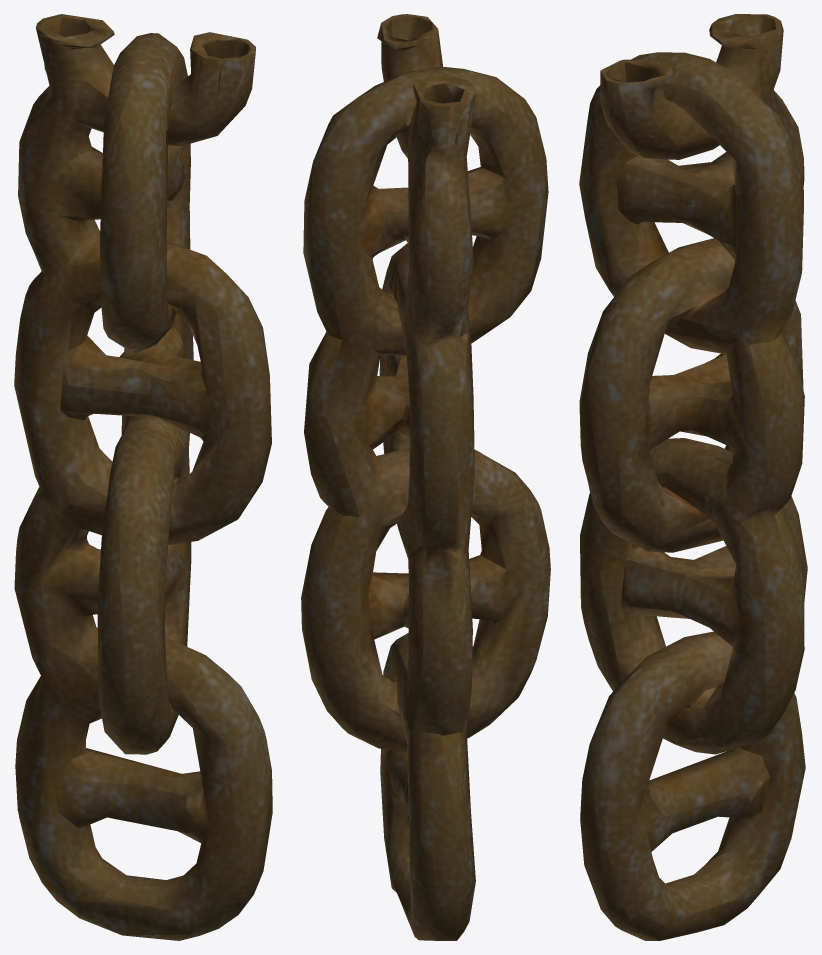
The model's file is lm_chain.glb.
The picture shows the model from 3 angles, left to right: view 1: azimuth 30°, elevation 25°; view 2: azimuth 150°, elevation 25°; view 3: azimuth 270°, elevation 25°; orthographic projection. The views are drawn at different scales.
Visible parts, largest first — view 1: world; view 2: world; view 3: world.
Boxes of the visible parts, x1,y1,x2,y2 form: world: (14,14,272,940); world: (301,14,550,940); world: (579,14,807,940).
Bounding box in the file's own units: 1.78 × 9 × 2.1.
Materials: 1 (1 with a texture image).
